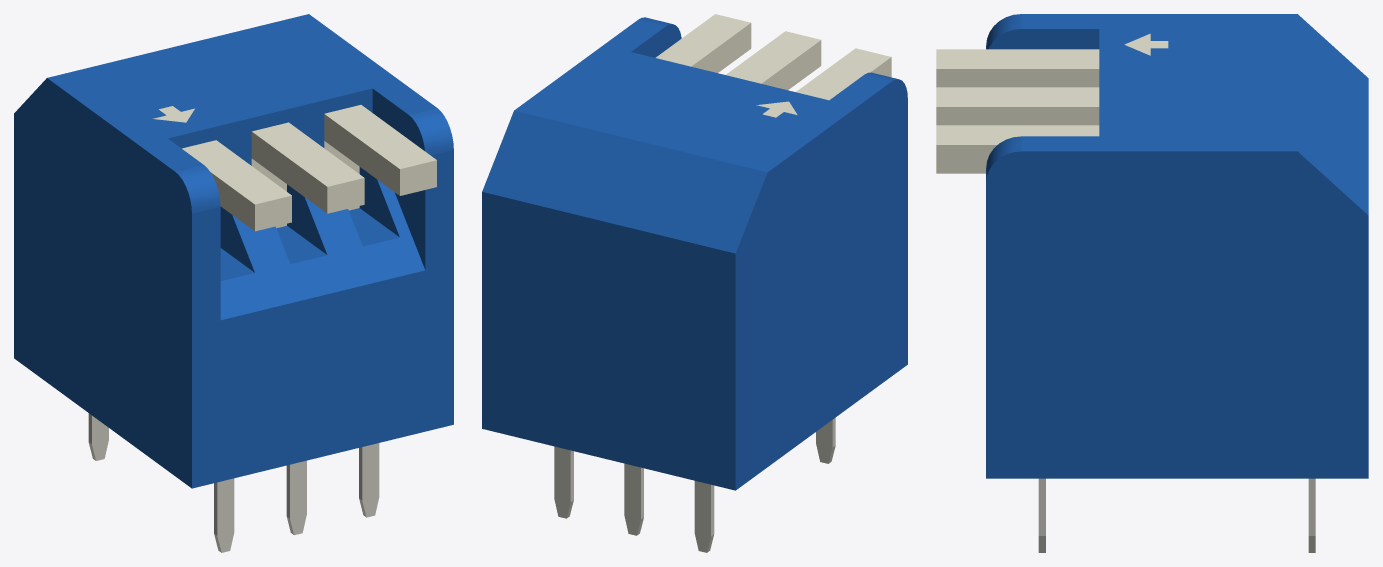
Rendered from kc-sw_dip_spstx03_piano_10.8x9.18mm_w7.62mm_p2.54mm.glb.
3 renders of one model, left to right at view 1: azimuth 30°, elevation 25°; view 2: azimuth 150°, elevation 25°; view 3: azimuth 270°, elevation 25°, orthographic. The views are drawn at different scales.
Visible parts, largest first — view 1: 0_0.16666666666666666_0.5_0, 0.75_0.75_0.6666666666666666_0, 0.6666666666666666_0.6666666666666666_0.5833333333333334_0.8; view 2: 0_0.16666666666666666_0.5_0, 0.75_0.75_0.6666666666666666_0, 0.6666666666666666_0.6666666666666666_0.5833333333333334_0.8; view 3: 0_0.16666666666666666_0.5_0, 0.75_0.75_0.6666666666666666_0, 0.6666666666666666_0.6666666666666666_0.5833333333333334_0.8.
Part boxes in pixels (x1,y1,x2,y2): 0_0.16666666666666666_0.5_0: (14,14,453,488); 0.75_0.75_0.6666666666666666_0: (153,105,436,231); 0.6666666666666666_0.6666666666666666_0.5833333333333334_0.8: (88,413,379,552); 0_0.16666666666666666_0.5_0: (482,17,907,490); 0.75_0.75_0.6666666666666666_0: (655,14,891,117); 0.6666666666666666_0.6666666666666666_0.5833333333333334_0.8: (554,418,835,552); 0_0.16666666666666666_0.5_0: (986,14,1368,478); 0.75_0.75_0.6666666666666666_0: (936,33,1168,173); 0.6666666666666666_0.6666666666666666_0.5833333333333334_0.8: (1038,478,1315,552).
Size of the model in its own units: 0.918 by 1.34 by 1.22.
